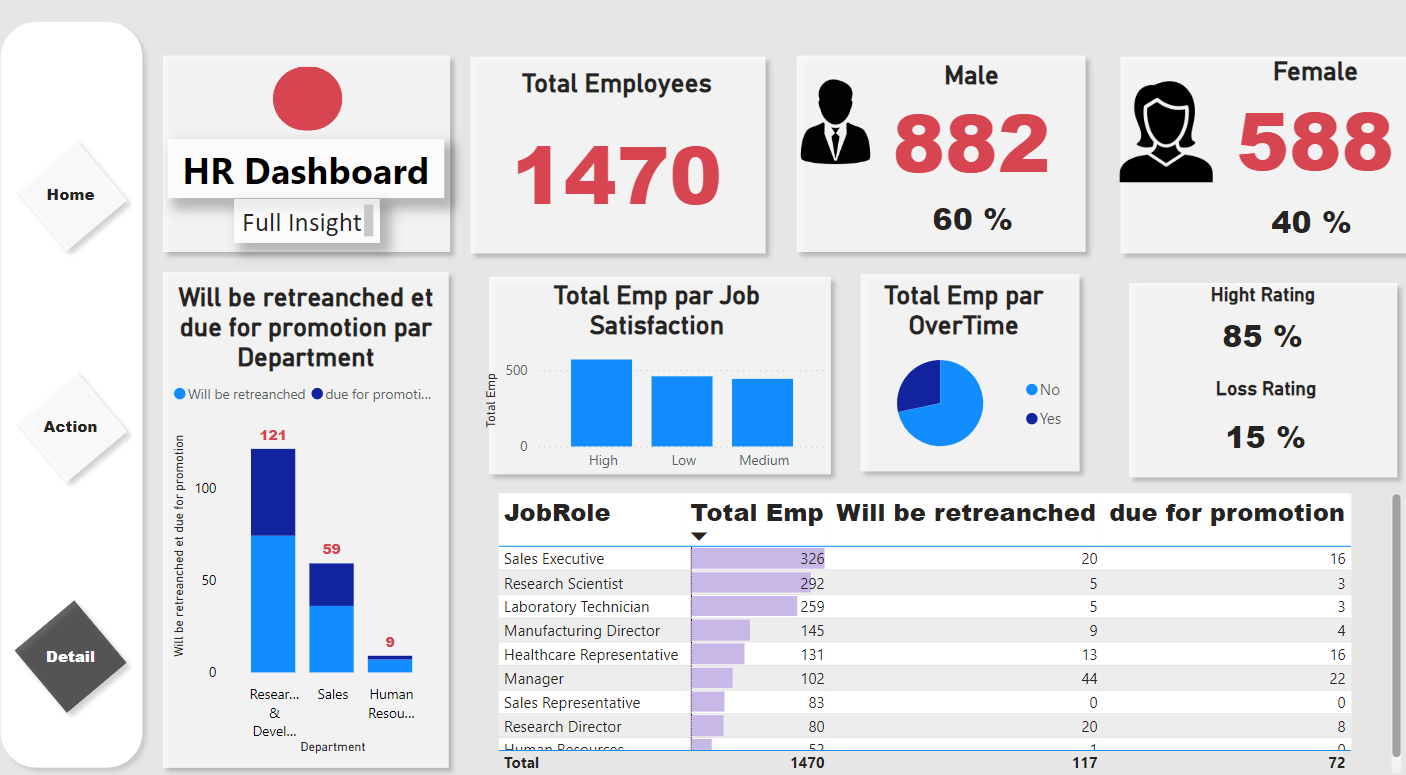

Layout of this report page (visuals, bound fields, positions):
{"tool":"powerbi","page":{"name":"Detail","canvas":[1280,720],"ordinal":2},"visuals":[{"type":"shape","box":[10.1,46.3,142.8,673.8],"z":0},{"type":"shape","box":[152.3,75.5,270.3,190.7],"z":1000},{"type":"shape","box":[422.6,76.8,277.2,190.7],"z":2000},{"type":"shape","box":[709.4,75.5,271.7,190.7],"z":3000},{"type":"shape","box":[994.9,76.8,271.7,190.7],"z":4000},{"type":"textbox","box":[166,157.8,242.9,52.1],"z":5000},{"type":"textbox","box":[223.7,211.3,127.6,38.4],"z":6000},{"type":"shape","box":[258.4,94.9,61.3,56.5],"z":7000},{"type":"card","title":"Total Employees","fields":{"Values":["All MEASURES.Total Emp"]},"box":[458,95.5,205.1,151.7],"z":8000},{"type":"card","title":"Male","fields":{"Values":["All MEASURES.Male"]},"box":[769.2,87.7,206.7,111.8],"z":9000},{"type":"card","fields":{"Values":["All MEASURES.% male"]},"box":[831.6,207.9,84.3,42.1],"z":10000},{"type":"card","fields":{"Values":["All MEASURES.% Female"]},"box":[1129.4,210.7,84.3,42.1],"z":11000},{"type":"image","box":[710.8,101.1,84.3,84.3],"z":12000},{"type":"image","box":[994.6,101.1,98.3,101.1],"z":13000},{"type":"card","title":"Female","fields":{"Values":["All MEASURES.Female"]},"box":[1092.9,84.3,163,115.2],"z":14000},{"type":"shape","box":[153,266,269,454],"z":15000},{"type":"columnChart","fields":{"Category":["HR Analytics Data.Department"],"Y":["All MEASURES.Will be retreanched","All MEASURES.due for promotion"]},"box":[165.9,283.6,242.8,420.7],"z":16000},{"type":"shape","box":[439.2,270.3,318.2,191.5],"z":17000},{"type":"shape","box":[765.6,268,210.3,191.1],"z":18000},{"type":"shape","box":[1002.4,275.9,253.4,188.7],"z":19000},{"type":"columnChart","fields":{"Category":["HR Analytics Data.Job Satisfaction"],"Y":["All MEASURES.Total Emp"]},"box":[439.2,281.6,312.5,177.4],"z":20000},{"type":"pieChart","fields":{"Category":["HR Analytics Data.OverTime"],"Y":["All MEASURES.Total Emp"]},"box":[765.6,281.2,199.5,165.9],"z":21000},{"type":"tableEx","fields":{"Values":["HR Analytics Data.JobRole","All MEASURES.Total Emp","All MEASURES.Will be retreanched","All MEASURES.due for promotion"]},"box":[450.5,464.6,805.3,256.2],"z":22000},{"type":"card","title":"Hight Rating","fields":{"Values":["All MEASURES.% Hight Rating"]},"box":[1010.8,284.8,235.6,75.7],"z":23000},{"type":"card","title":"Loss Rating","fields":{"Values":["All MEASURES.% Loss Rating"]},"box":[1033.6,366.6,194.7,88.9],"z":24000},{"type":"pageNavigator","box":[22.1,115.6,117.7,589.7],"z":25000}]}

Visuals, with their boxes in screenshot pixels (x1, y1, x2, y2), scaled from the page's 1280x720 canvas onto the 1406x775 screenshot:
shape: 11 50 168 774
shape: 167 81 464 287
shape: 464 83 769 288
shape: 779 81 1078 287
shape: 1093 83 1391 288
textbox: 182 170 449 226
textbox: 246 227 386 269
shape: 284 102 351 163
"Total Employees" card: 503 103 728 266
"Male" card: 845 94 1072 215
card - All MEASURES.% male: 913 224 1006 269
card - All MEASURES.% Female: 1241 227 1333 272
image: 781 109 873 200
image: 1093 109 1200 218
"Female" card: 1200 91 1380 215
shape: 168 286 464 774
columnChart - HR Analytics Data.Department x All MEASURES.Will be retreanched: 182 305 449 758
shape: 482 291 832 497
shape: 841 288 1072 494
shape: 1101 297 1379 500
columnChart - HR Analytics Data.Job Satisfaction x All MEASURES.Total Emp: 482 303 826 494
pieChart - HR Analytics Data.OverTime x All MEASURES.Total Emp: 841 303 1060 481
tableEx - HR Analytics Data.JobRole x All MEASURES.Total Emp: 495 500 1379 774
"Hight Rating" card: 1110 307 1369 388
"Loss Rating" card: 1135 395 1349 490
pageNavigator: 24 124 154 759
